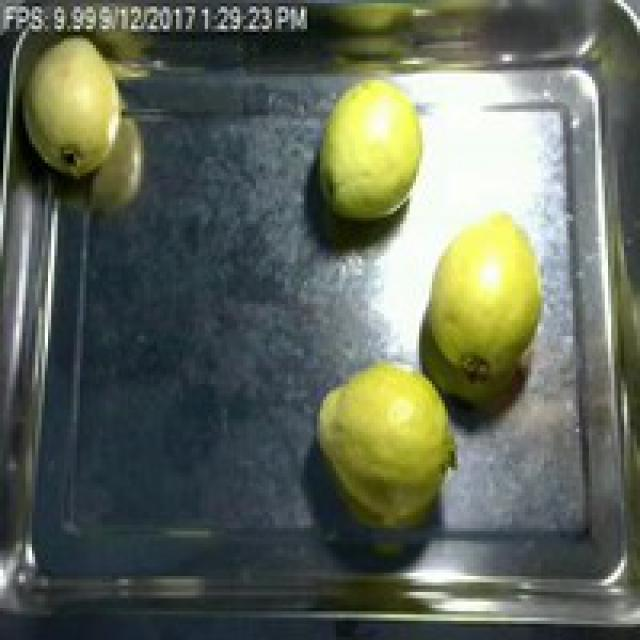Fruit: (416, 198, 557, 429), (308, 348, 470, 538), (0, 10, 160, 202), (304, 64, 442, 234)
